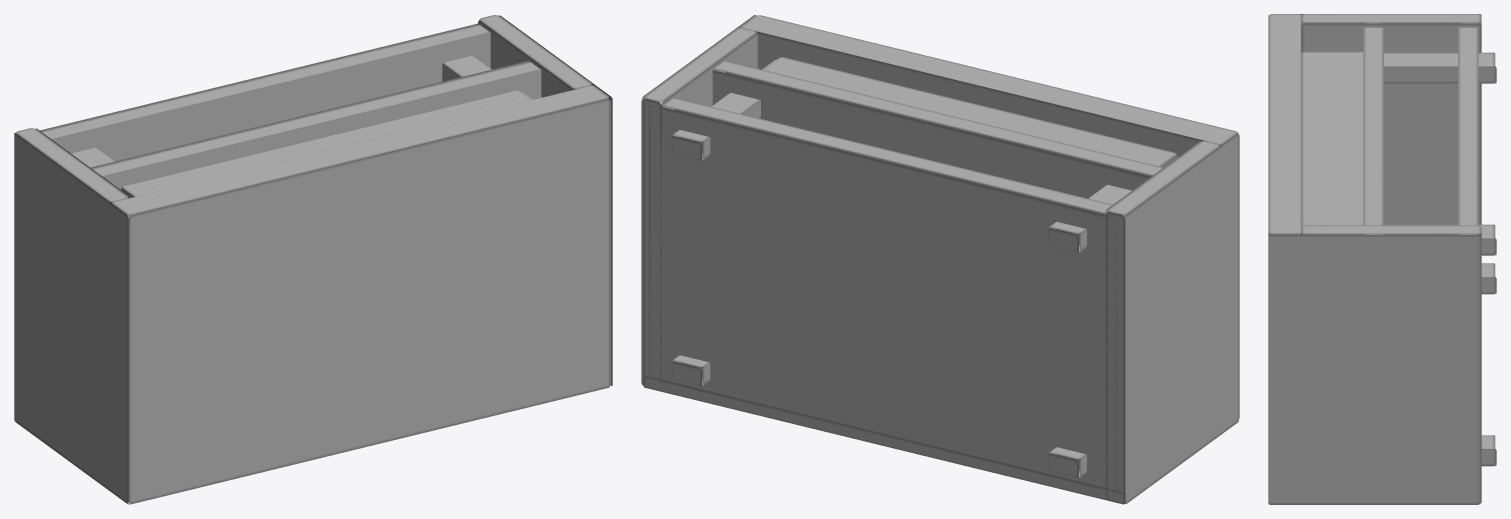
The model's file is pz_table_tables_low_01_black_low_modern.obj.
3 views of the same model, side by side, from view 1: azimuth 30°, elevation 25°; view 2: azimuth 150°, elevation 25°; view 3: azimuth 270°, elevation 25° (orthographic). The views are drawn at different scales.
Size of the model in its own units: 0.875 by 0.5 by 0.3827.
1 material, 1 textured.
